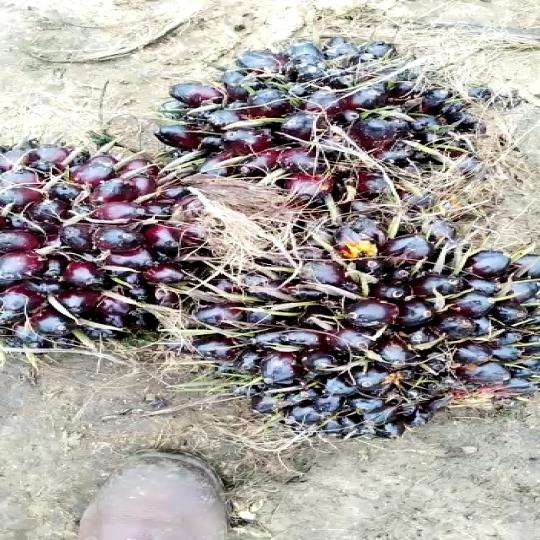mentah: (180, 208, 532, 444), (148, 29, 518, 203), (1, 127, 215, 375)
